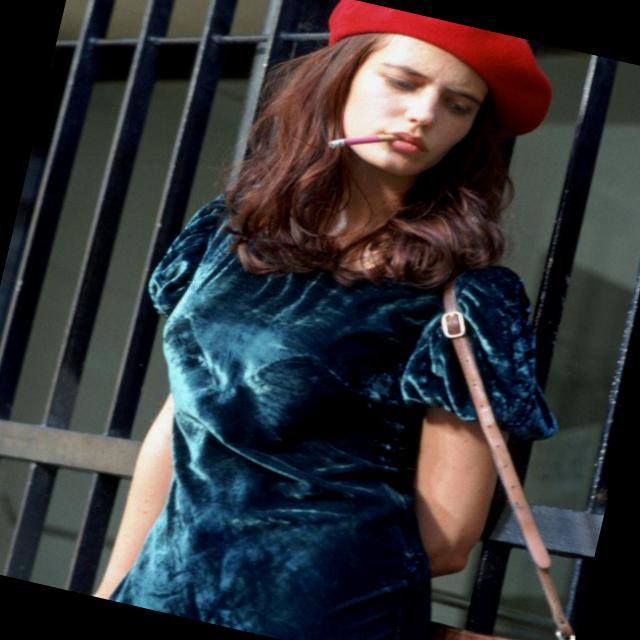cigarette: (307, 106, 418, 167)
